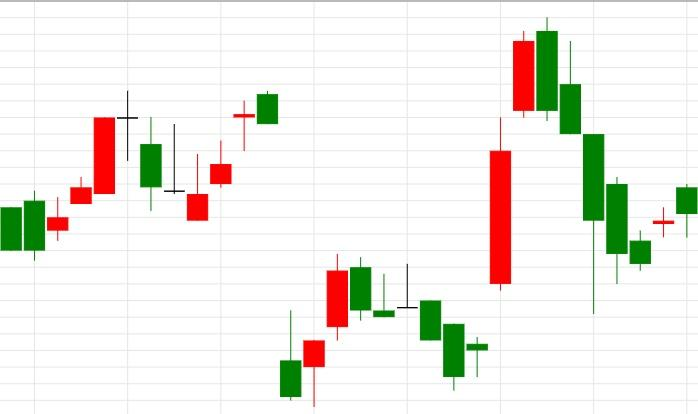bearish_engulfing_fall: (442, 17, 558, 390)
evening_star_fall: (0, 91, 162, 261)
